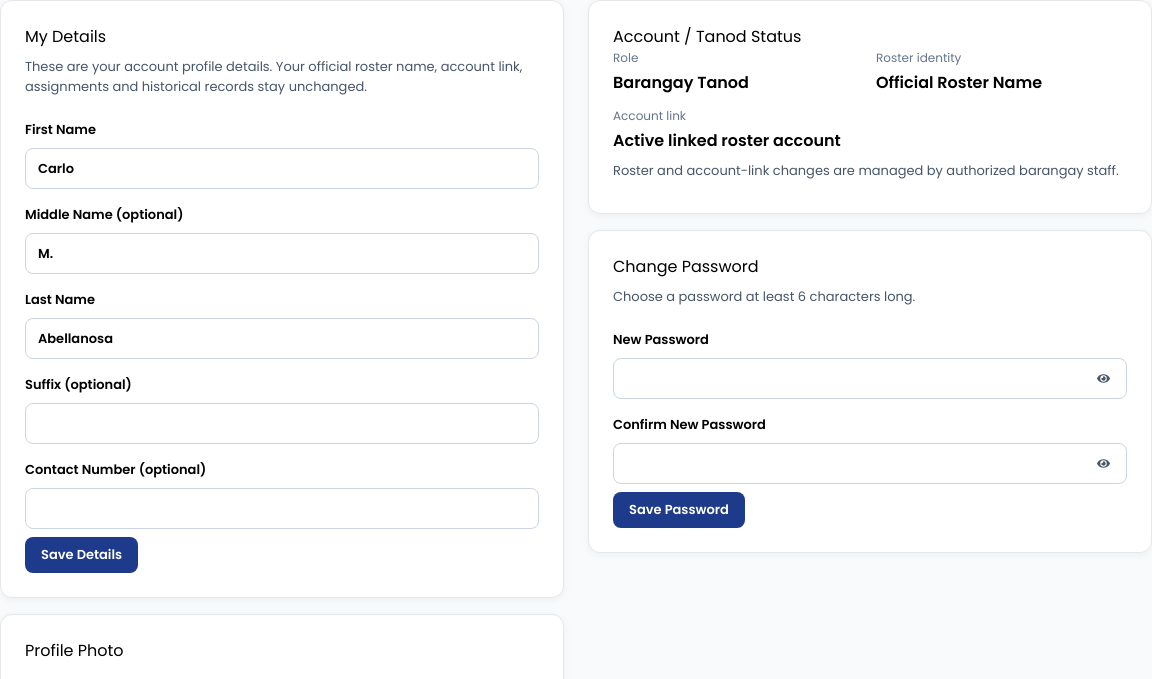
Test: validates password and confirmation before Auth update
The width and height of the screenshot is (1152, 679).
Click the button "Save Password" at point(679, 510), box [613,492,745,528]
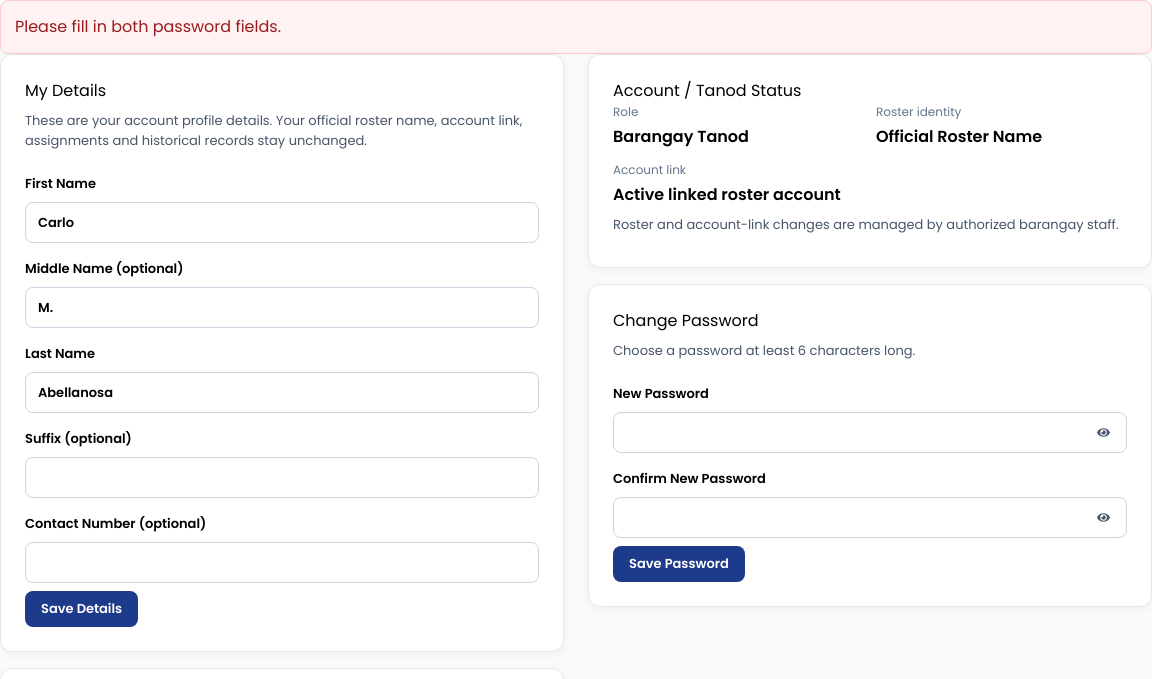
Now the message shows "both password fields", box [15,15,281,38]
